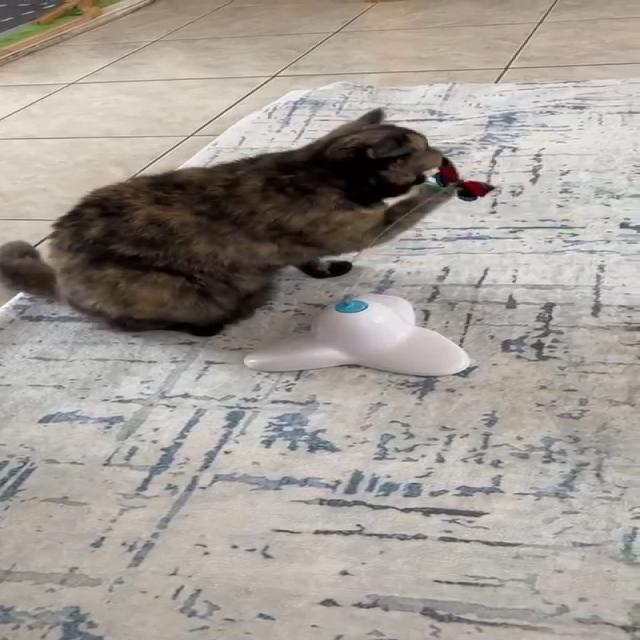authorized: (0, 106, 460, 337)
